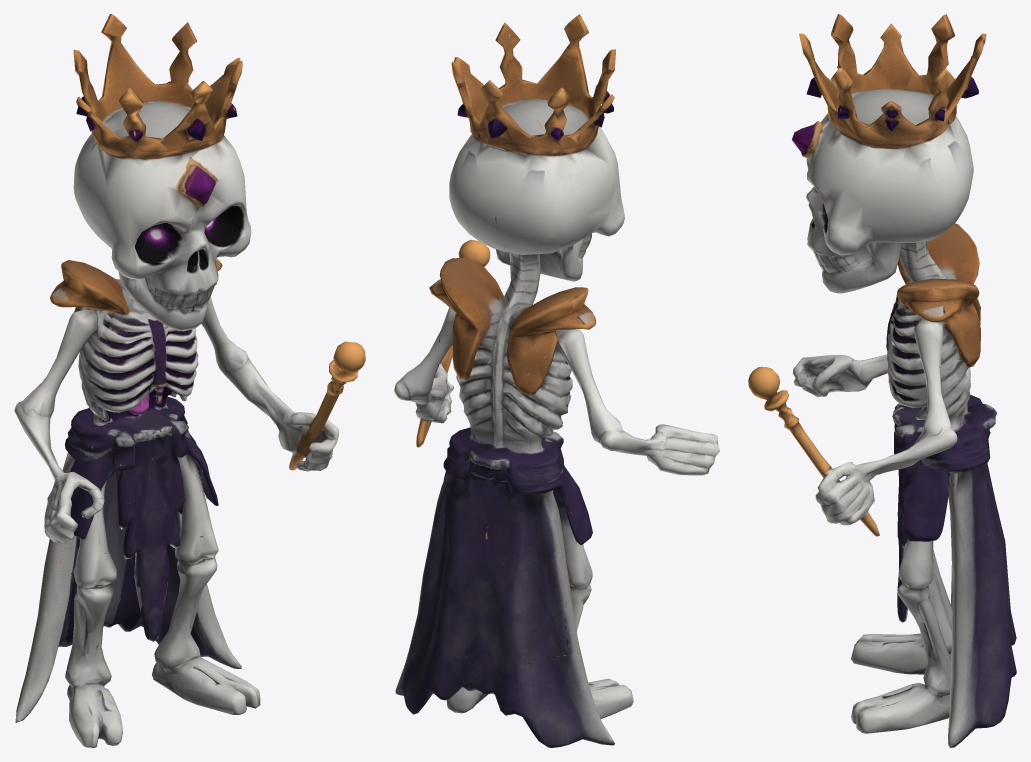
Rendered from gen_hollowqueen.glb.
3 renders of one model, left to right at view 1: azimuth 30°, elevation 25°; view 2: azimuth 150°, elevation 25°; view 3: azimuth 270°, elevation 25°, orthographic. The views are drawn at different scales.
Parts seen in each view (by area): view 1: Model; view 2: Model; view 3: Model.
Boxes of the visible parts, box(x1,y1,x2,y2) form: Model: box(14, 14, 365, 747); Model: box(394, 14, 719, 747); Model: box(748, 14, 1016, 747).
Bounding box in the file's own units: 0.8822 × 1.9 × 0.6978.
Materials: 1 (1 with a texture image).
